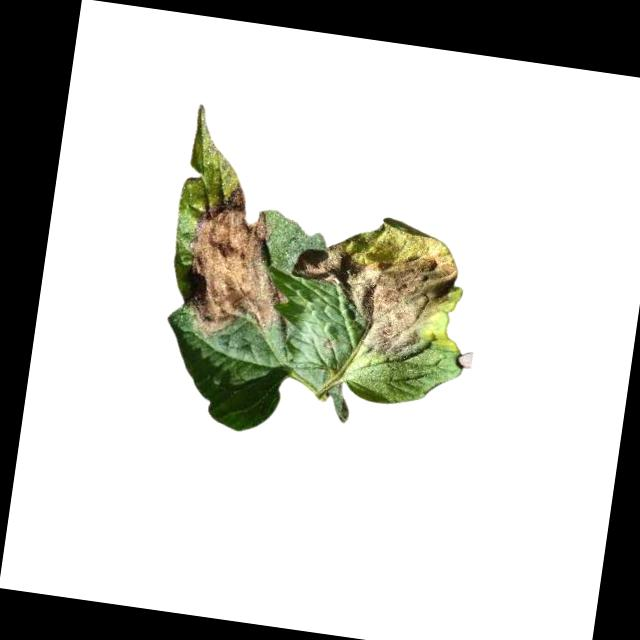Late_blight: (284, 203, 472, 364), (180, 181, 303, 347)
